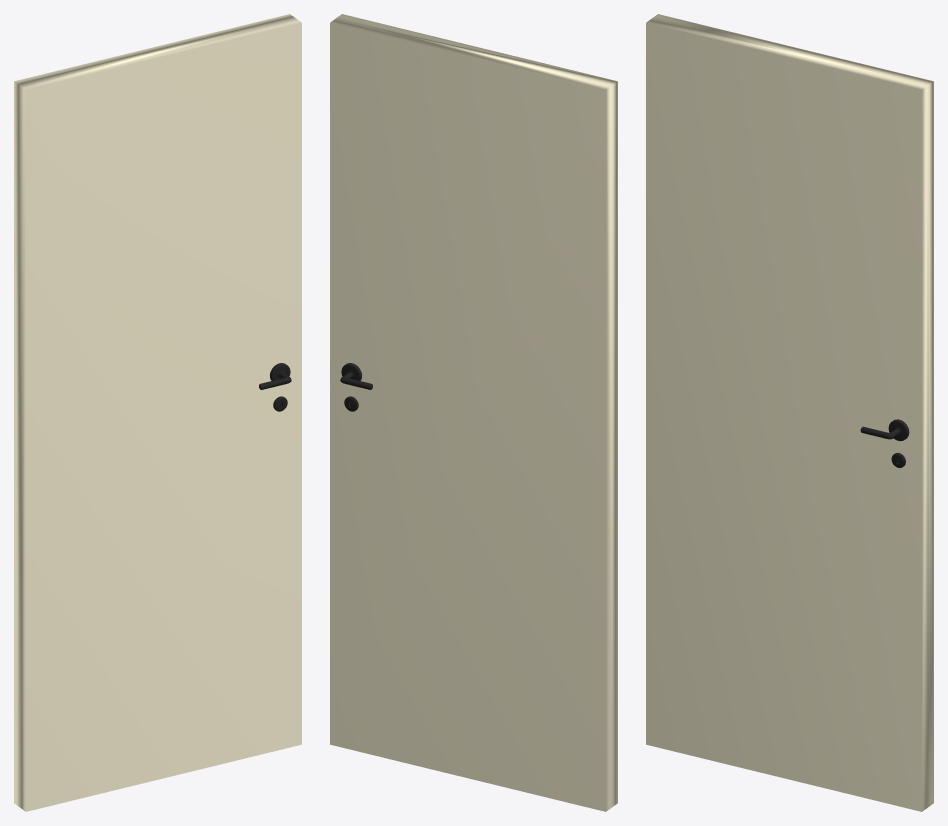
The model's file is 3cfd3217-8c46-416d-8879-c0e26a42d525.glb.
The picture shows the model from 3 angles, left to right: view 1: azimuth 30°, elevation 25°; view 2: azimuth 150°, elevation 25°; view 3: azimuth 330°, elevation 25°; orthographic projection.
Visible parts, largest first — view 1: Door.006; view 2: Door.006; view 3: Door.006.
Part boxes in pixels (bbox=[...]): Door.006: bbox=[14, 14, 301, 811]; Door.006: bbox=[330, 14, 617, 811]; Door.006: bbox=[646, 14, 933, 811].
Size of what is drawn, in the model's own units: 0.8628 by 2.16 by 0.1816.
Materials: 2 (2 with a texture image).
